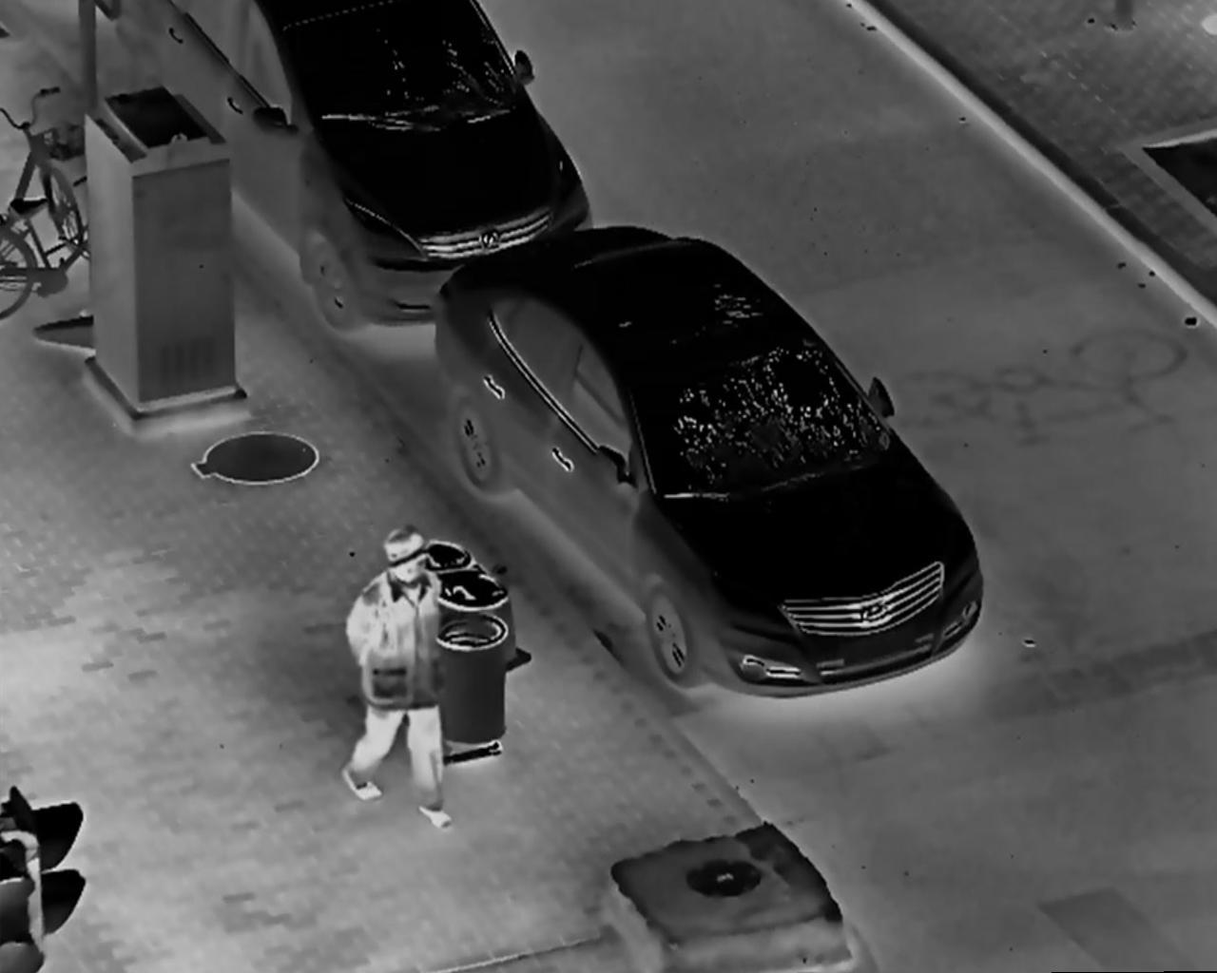person: (335, 522, 457, 834)
